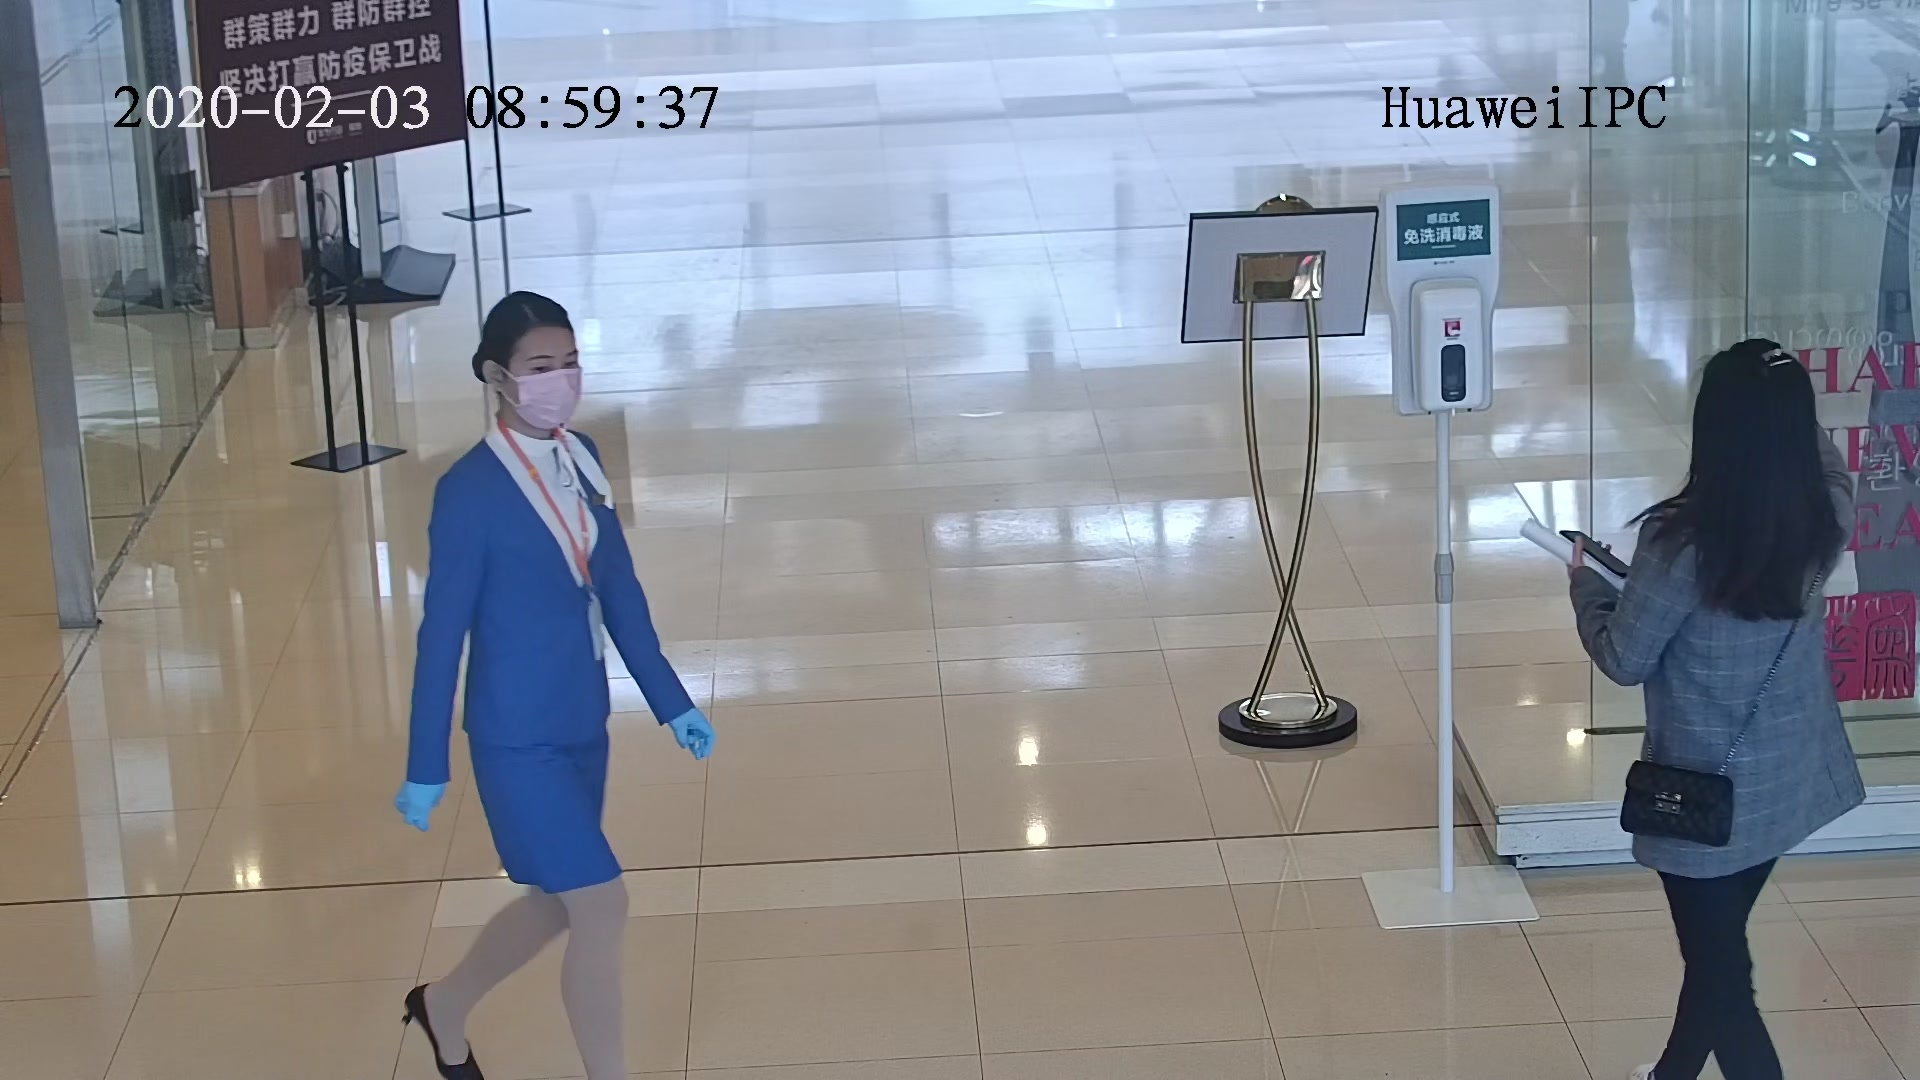face: (507, 334, 588, 429)
mask: (510, 366, 588, 429)
person: (1634, 341, 1851, 595), (427, 288, 617, 528)
